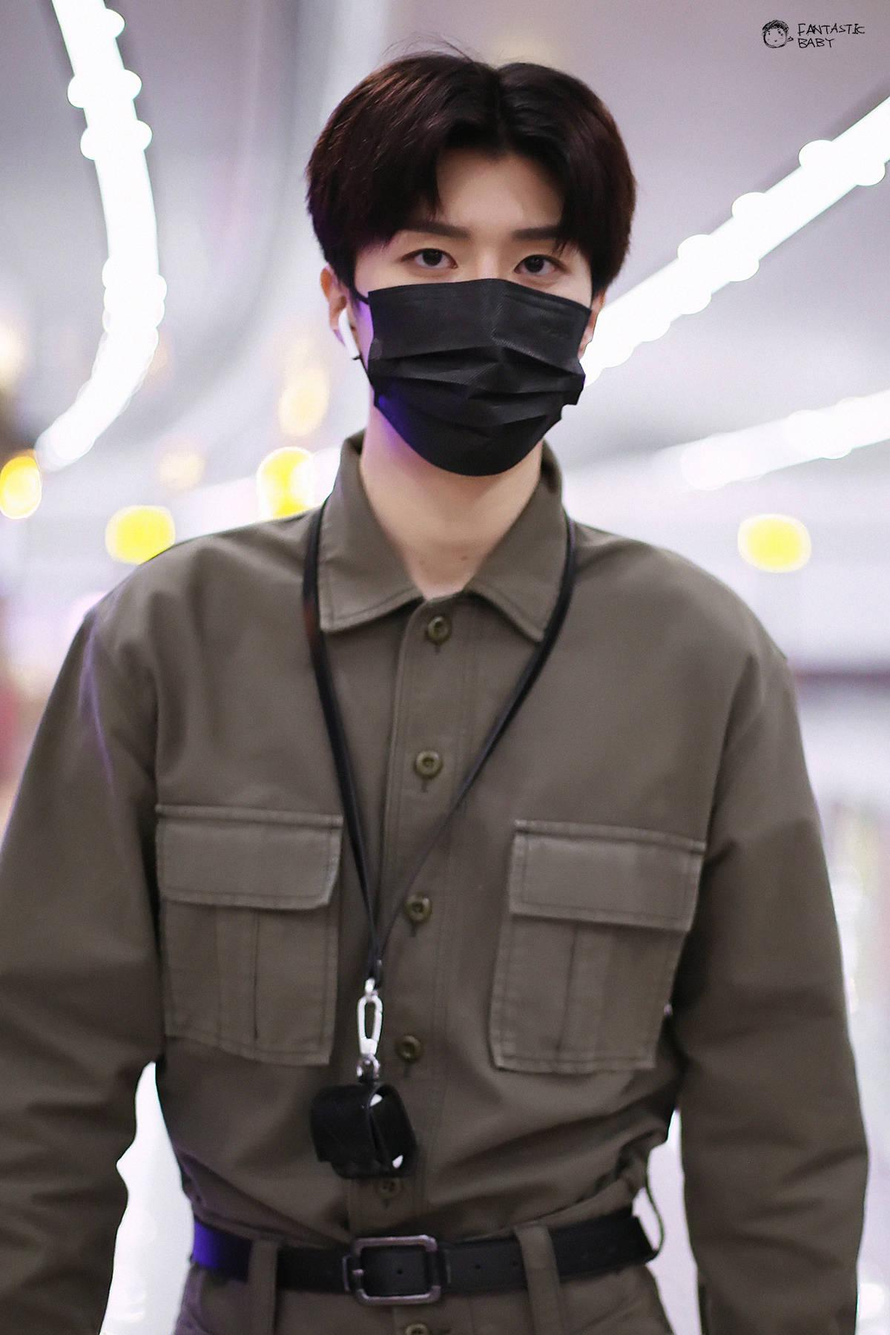OK: (368, 193, 587, 478)
